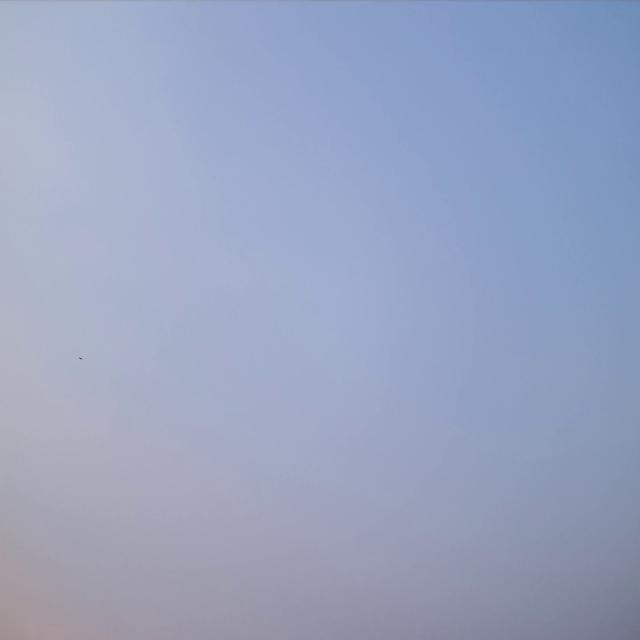UAV: (78, 356, 82, 361)
